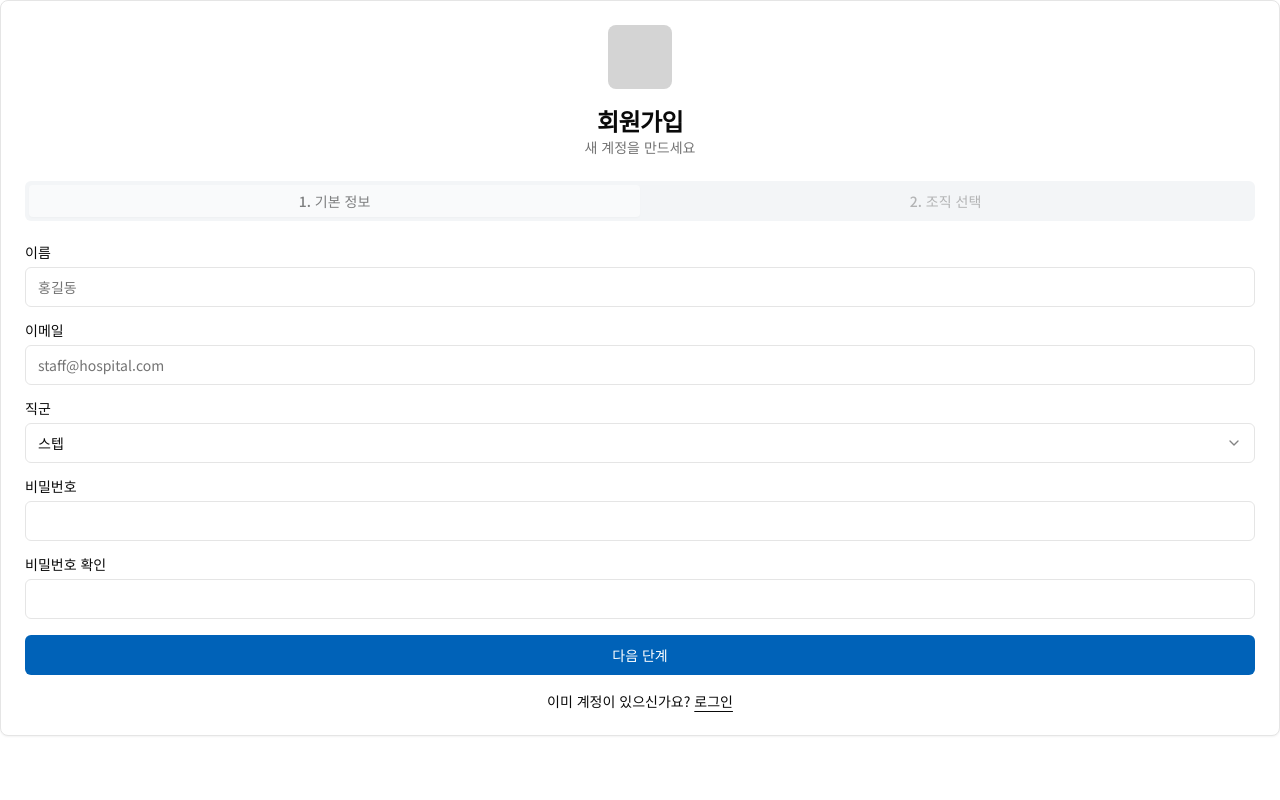
Test: SignUpForm - 중복 제출 방지 › Rate limit 에러 발생 시 적절한 메시지를 표시해야 함
# Fill form
Type "테스트유저" into the field labelled "이름" at coordinates (640, 287), box 25,267 -> 1255,307
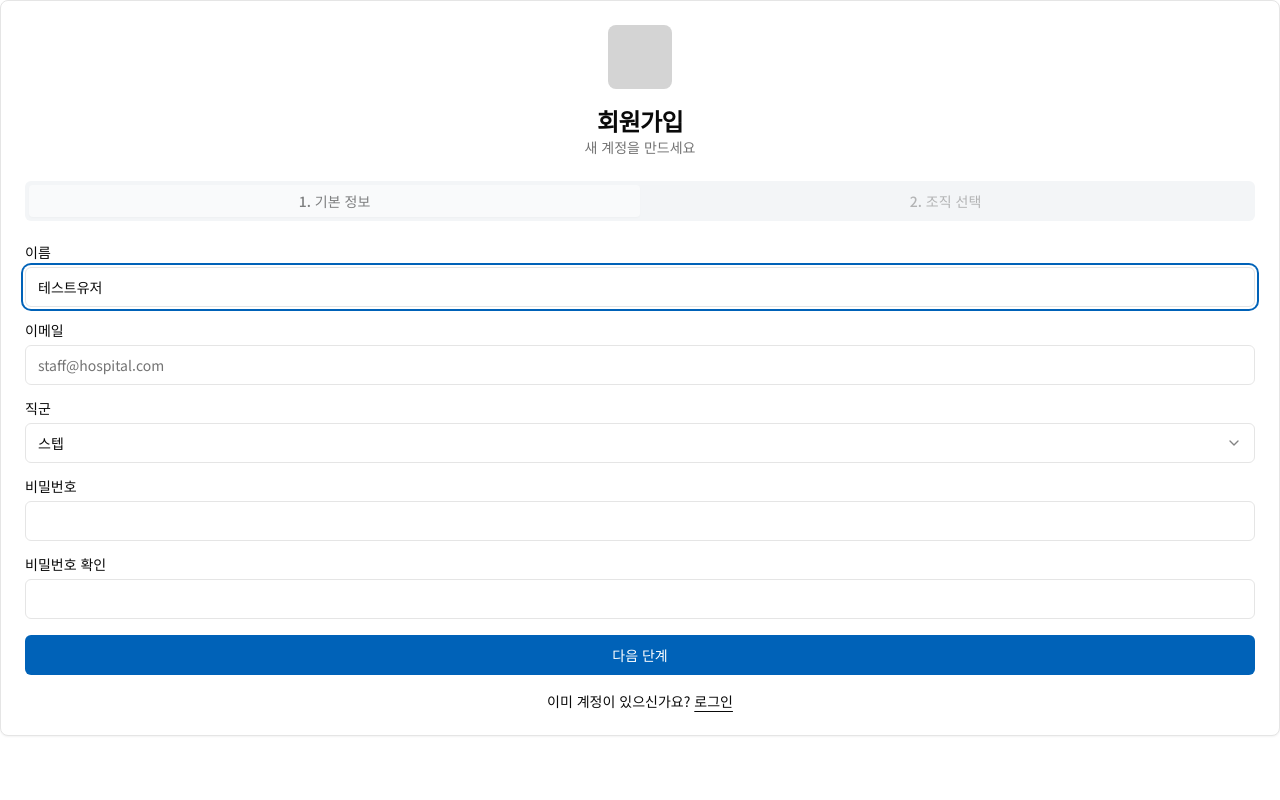
Type "mock-test-user@example.test" into the field labelled "이메일" at coordinates (640, 365), box 25,345 -> 1255,385
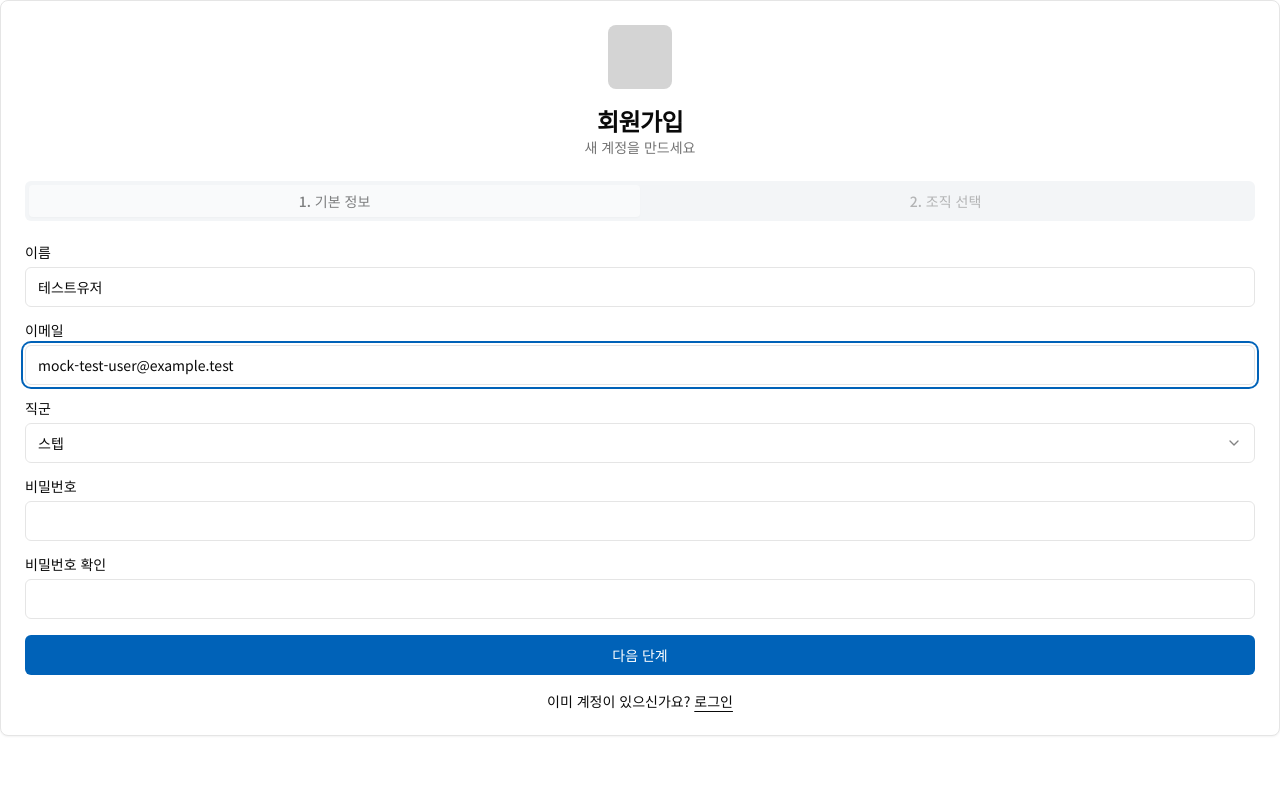
Type "MockTestPassword123!" into the password field labelled "비밀번호" at coordinates (640, 521), box 25,501 -> 1255,541
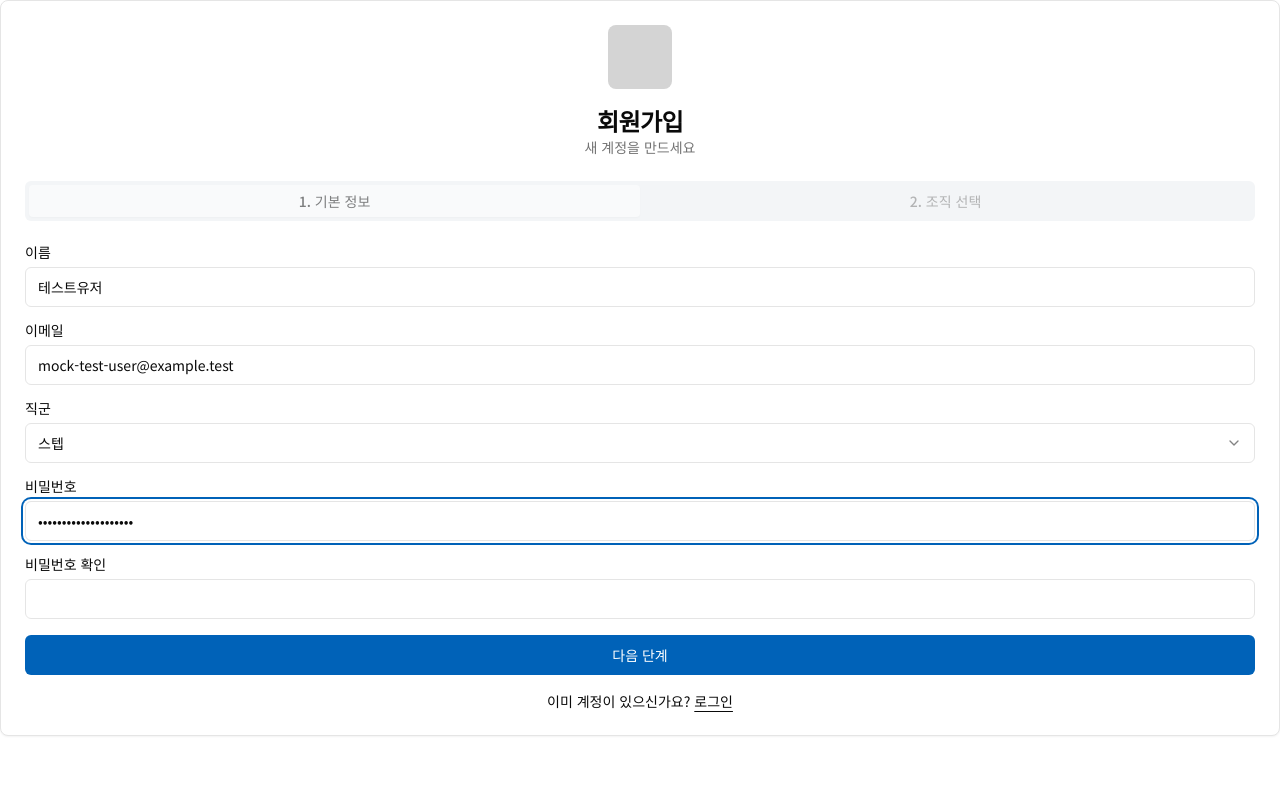
Type "MockTestPassword123!" into the password field labelled "비밀번호 확인" at coordinates (640, 599), box 25,579 -> 1255,619
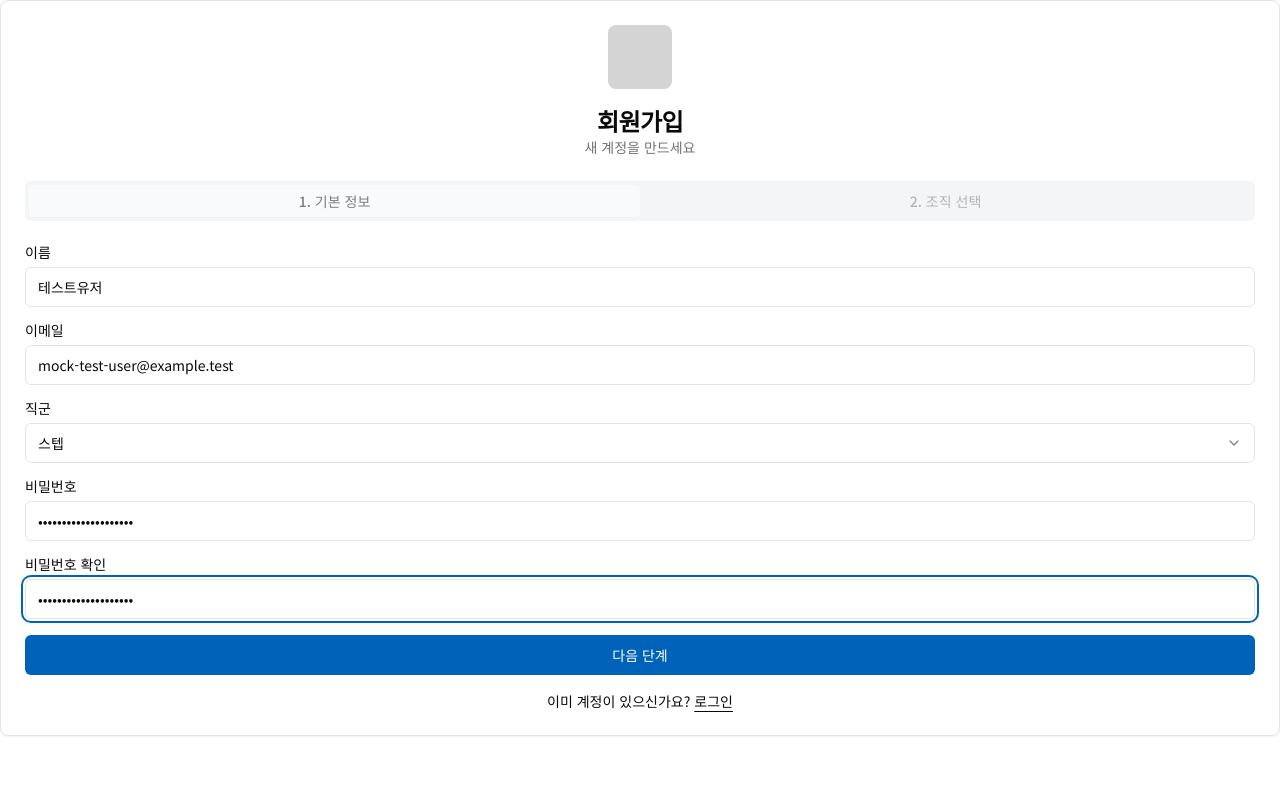
Click the button "다음 단계" at coordinates (640, 655), box 25,635 -> 1255,675
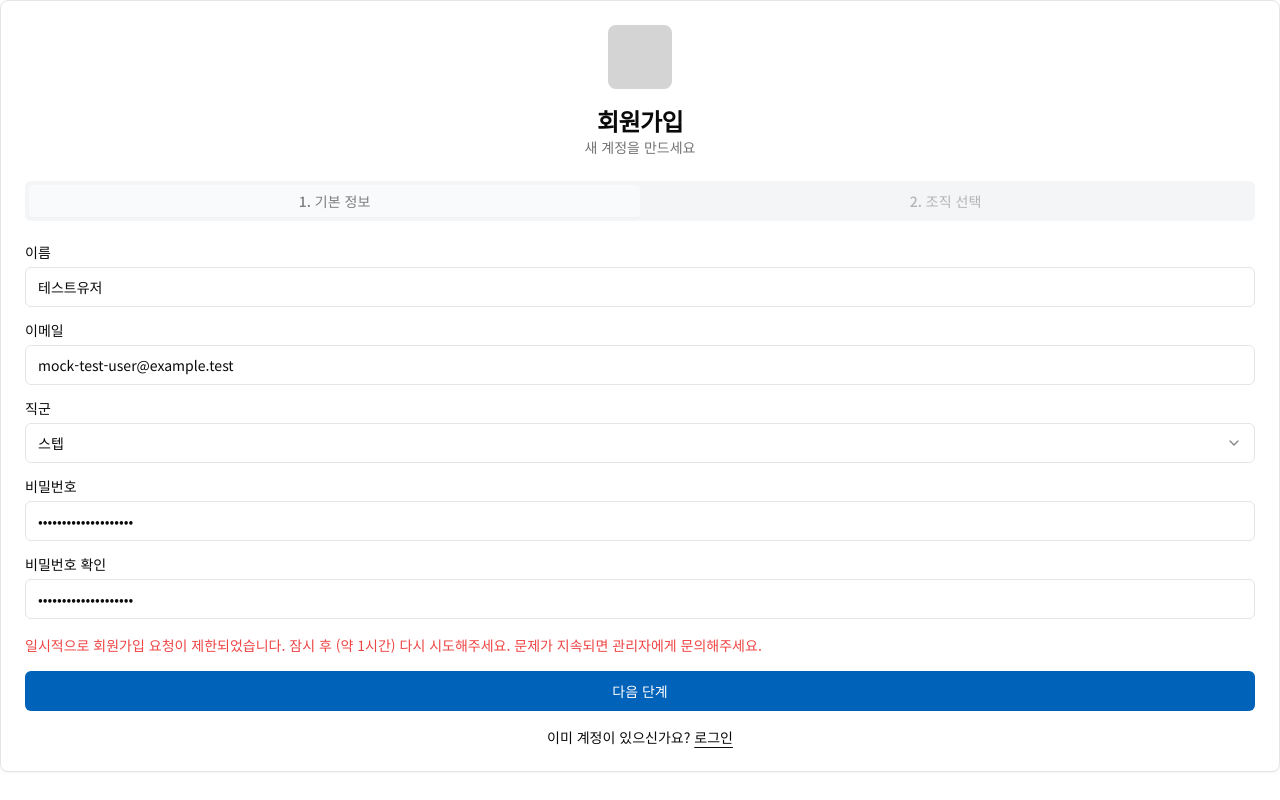
Expected: the text "일시적으로 회원가입 요청이 제한되었습니다" is shown, 25,635 -> 762,655
